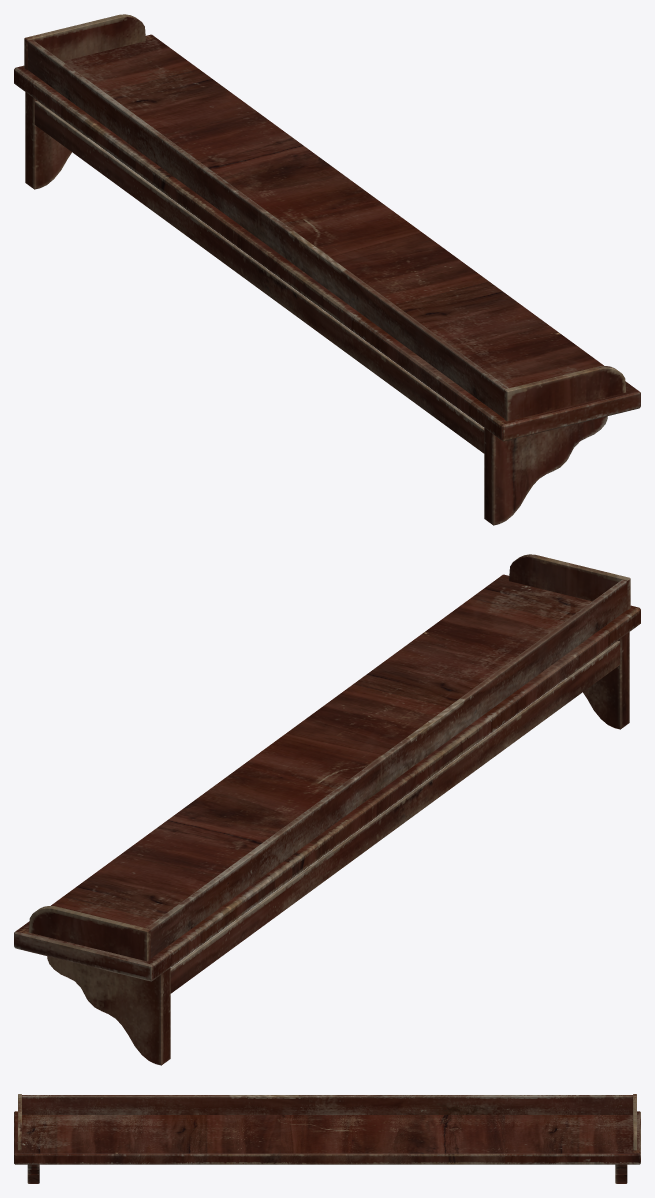
The model's file is Prop_Shelf_2.fbx.
3 renders of one model, top to bottom at view 1: azimuth 30°, elevation 25°; view 2: azimuth 150°, elevation 25°; view 3: azimuth 270°, elevation 25°, orthographic. The views are drawn at different scales.
Visible parts, largest first — view 1: Prop_Shelf_2; view 2: Prop_Shelf_2; view 3: Prop_Shelf_2.
Boxes of the visible parts, box(x1,y1,x2,y2) form: Prop_Shelf_2: box(14, 14, 640, 525); Prop_Shelf_2: box(14, 554, 640, 1065); Prop_Shelf_2: box(14, 1094, 640, 1183).
Bounding box in the file's own units: 11.65 × 11.08 × 70.92.
